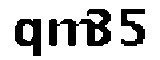3: (92, 8, 114, 49)
5: (118, 8, 149, 48)
m: (46, 18, 95, 50)
q: (11, 16, 43, 60)
